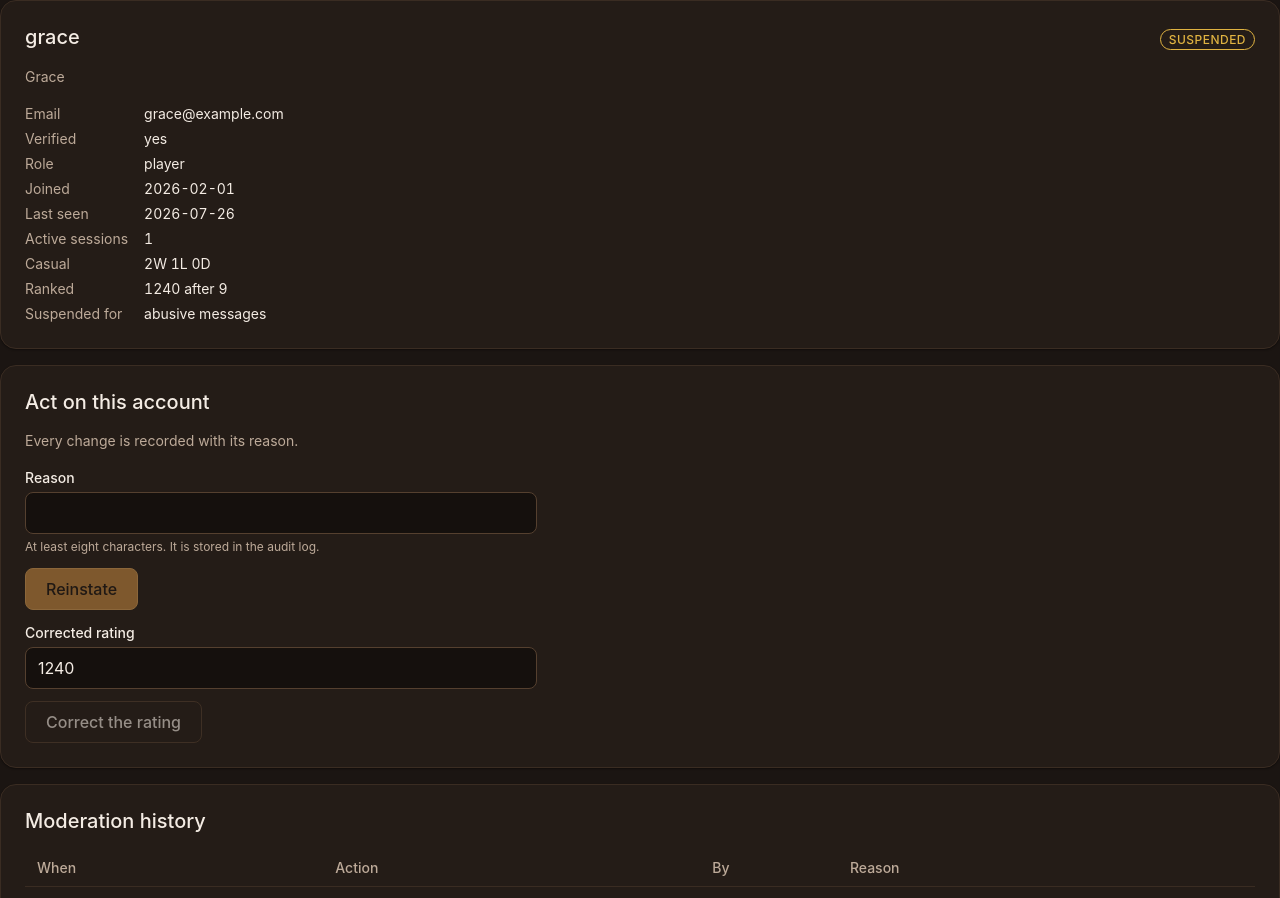
it: one account › reinstates a suspended account
This screenshot has width=1280, height=898.
Type "appeal upheld" into the field with test id "admin-reason" at (281, 513), box [25,492,537,534]
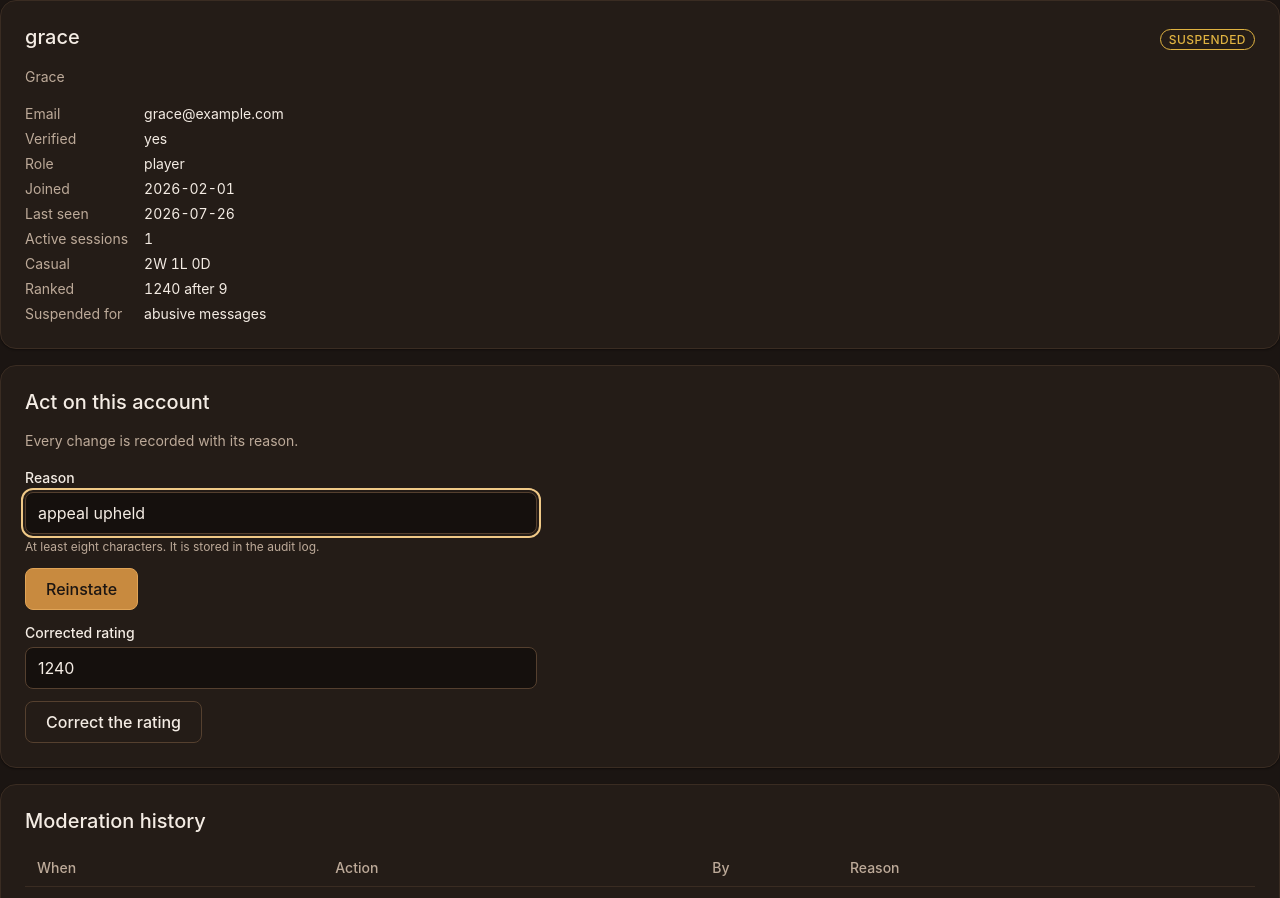
Click the button with test id "admin-reinstate" at (82, 589), box [25,568,138,610]
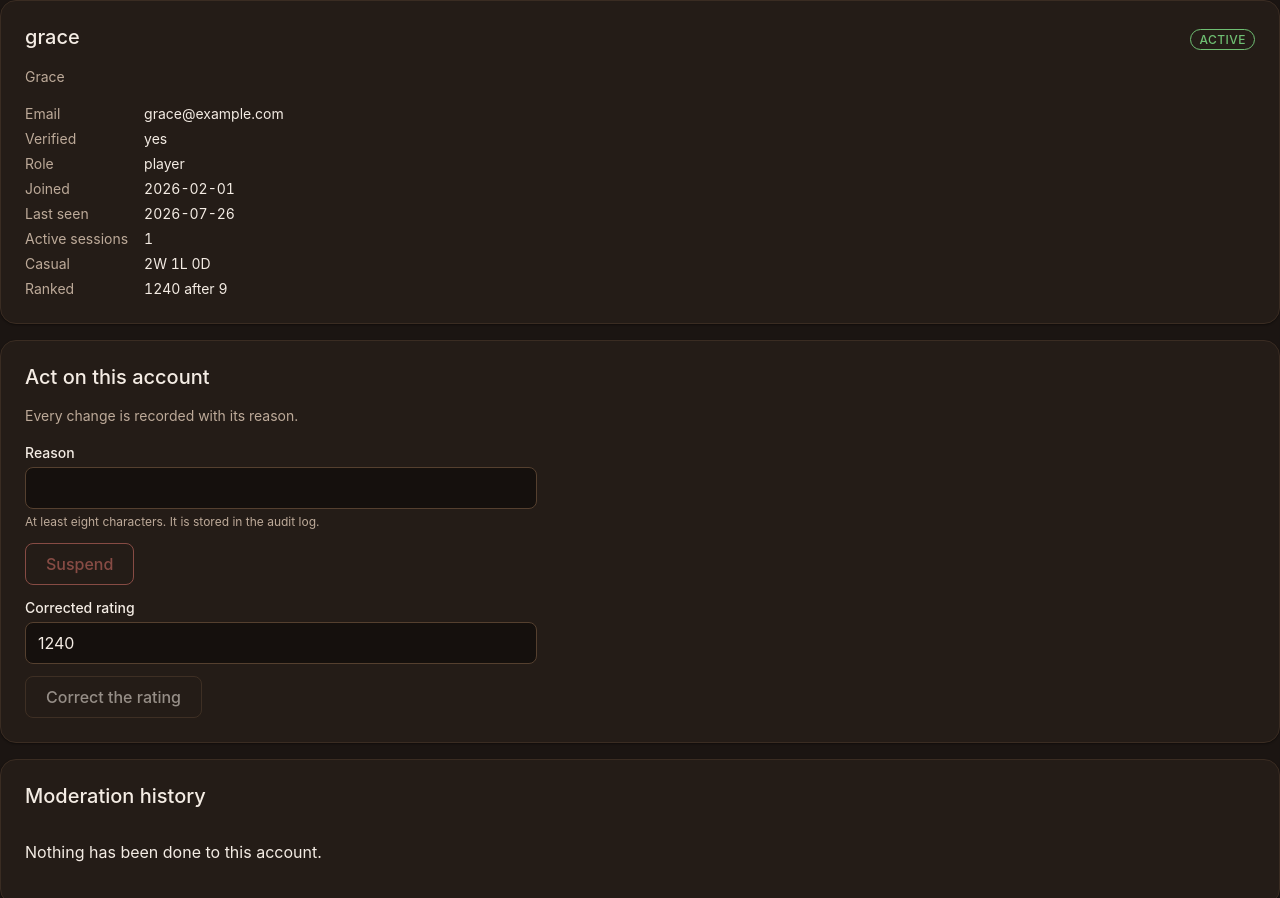
Expected: the button with test id "admin-suspend" is shown, [25,543,134,585]
